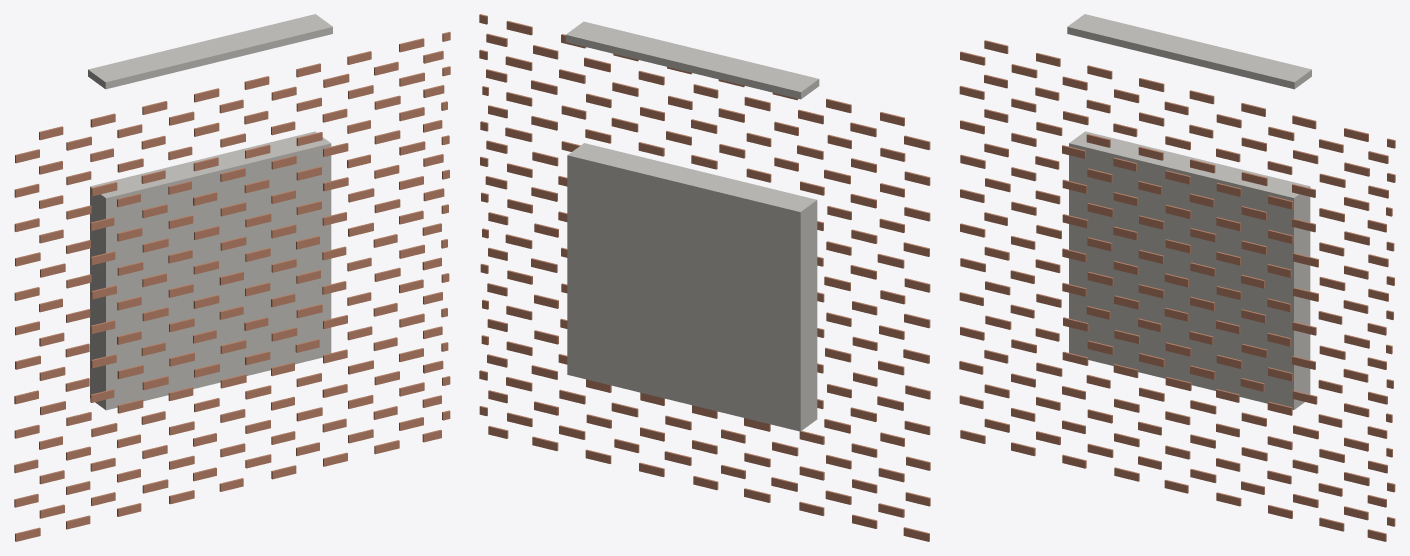
The model's file is brick_wall.glb.
3 views of the same model, side by side, from view 1: azimuth 30°, elevation 25°; view 2: azimuth 150°, elevation 25°; view 3: azimuth 330°, elevation 25° (orthographic). The views are drawn at different scales.
Parts seen in each view (by area): view 1: brick_wall; view 2: brick_wall; view 3: brick_wall.
Part boxes in pixels (x1=…): brick_wall: x1=14, y1=14, x2=450, y2=541; brick_wall: x1=479, y1=14, x2=930, y2=541; brick_wall: x1=959, y1=14, x2=1395, y2=541.
Bounding box in the file's own units: 1.93 × 1.82 × 0.2025.
